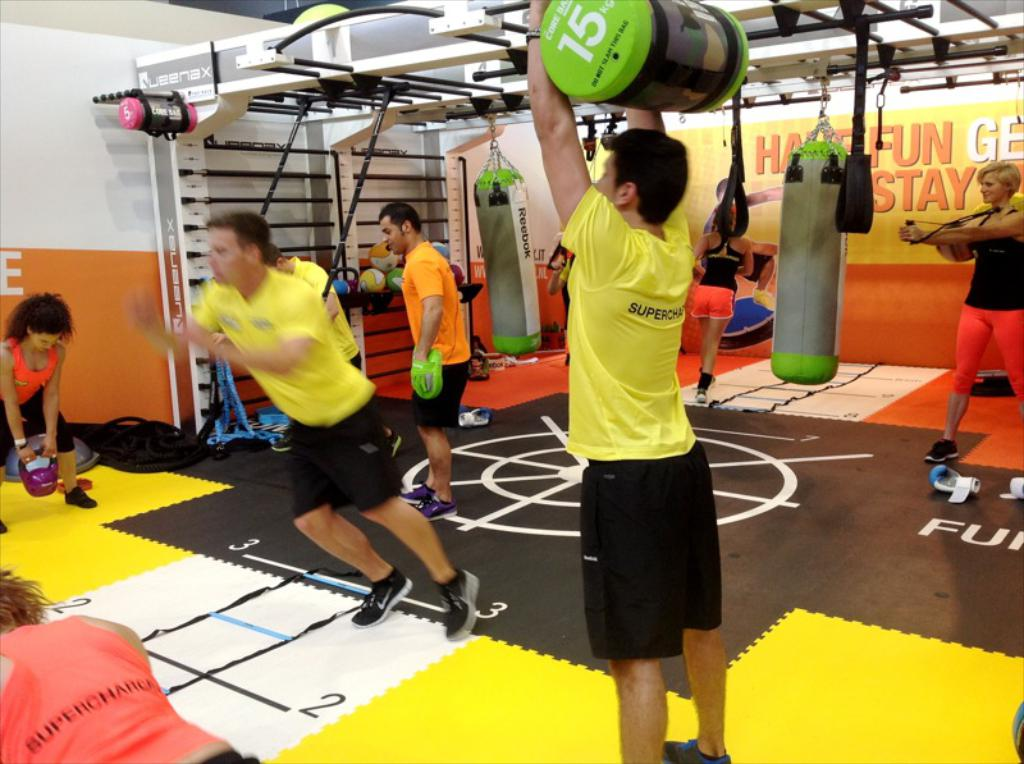Ball: (337, 244, 474, 297)
